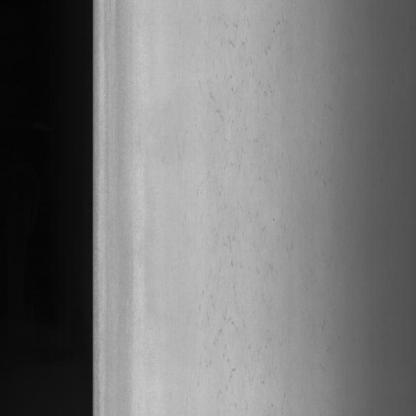silk_spot: (187, 4, 308, 416)
